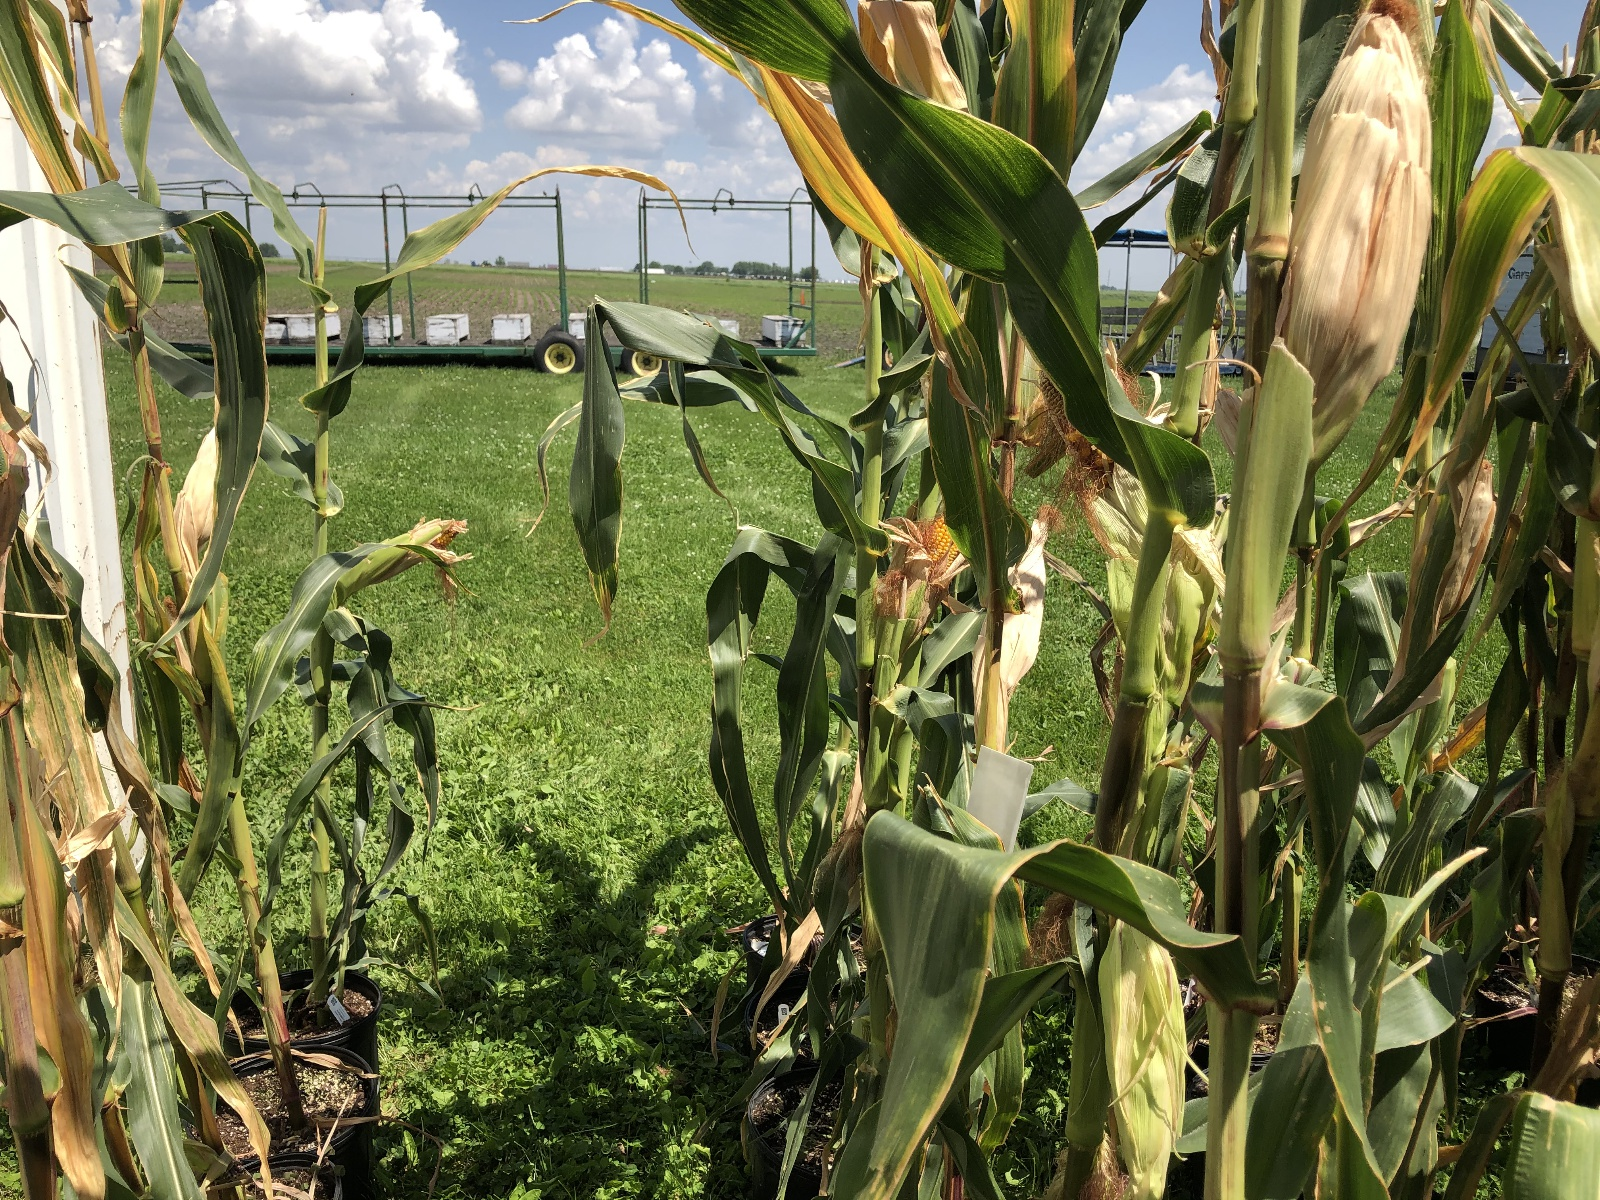ear: (1272, 18, 1437, 391), (1032, 363, 1196, 623), (336, 509, 477, 597), (1434, 458, 1503, 615), (171, 408, 224, 545), (884, 507, 959, 591)
